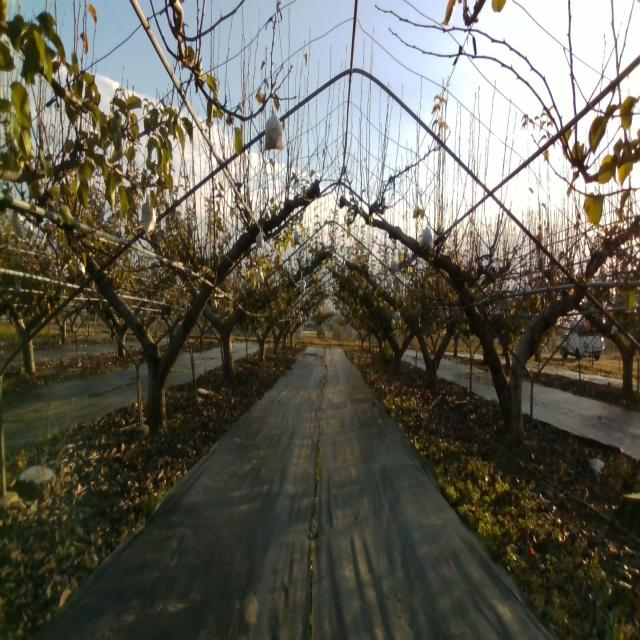pearbags: (264, 106, 284, 150), (142, 201, 156, 236), (418, 222, 434, 248)
